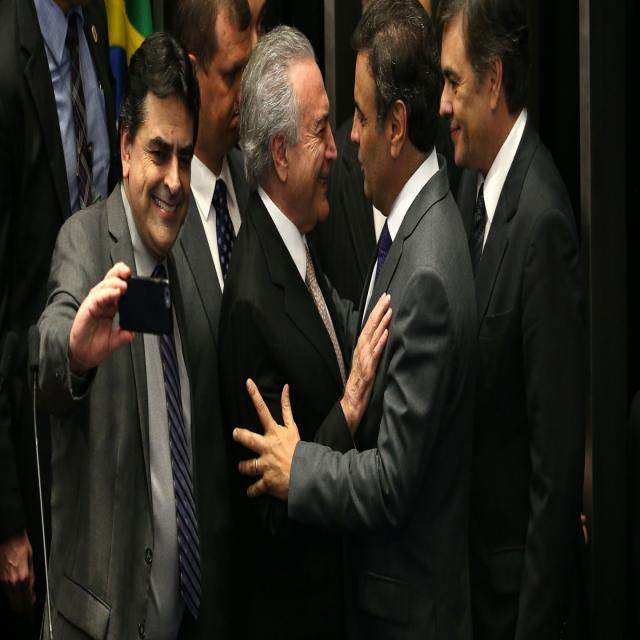body: (229, 0, 486, 639), (210, 20, 396, 639), (24, 21, 210, 639), (436, 0, 594, 639), (1, 0, 123, 639), (163, 0, 257, 637), (251, 0, 327, 52), (578, 506, 590, 564)
